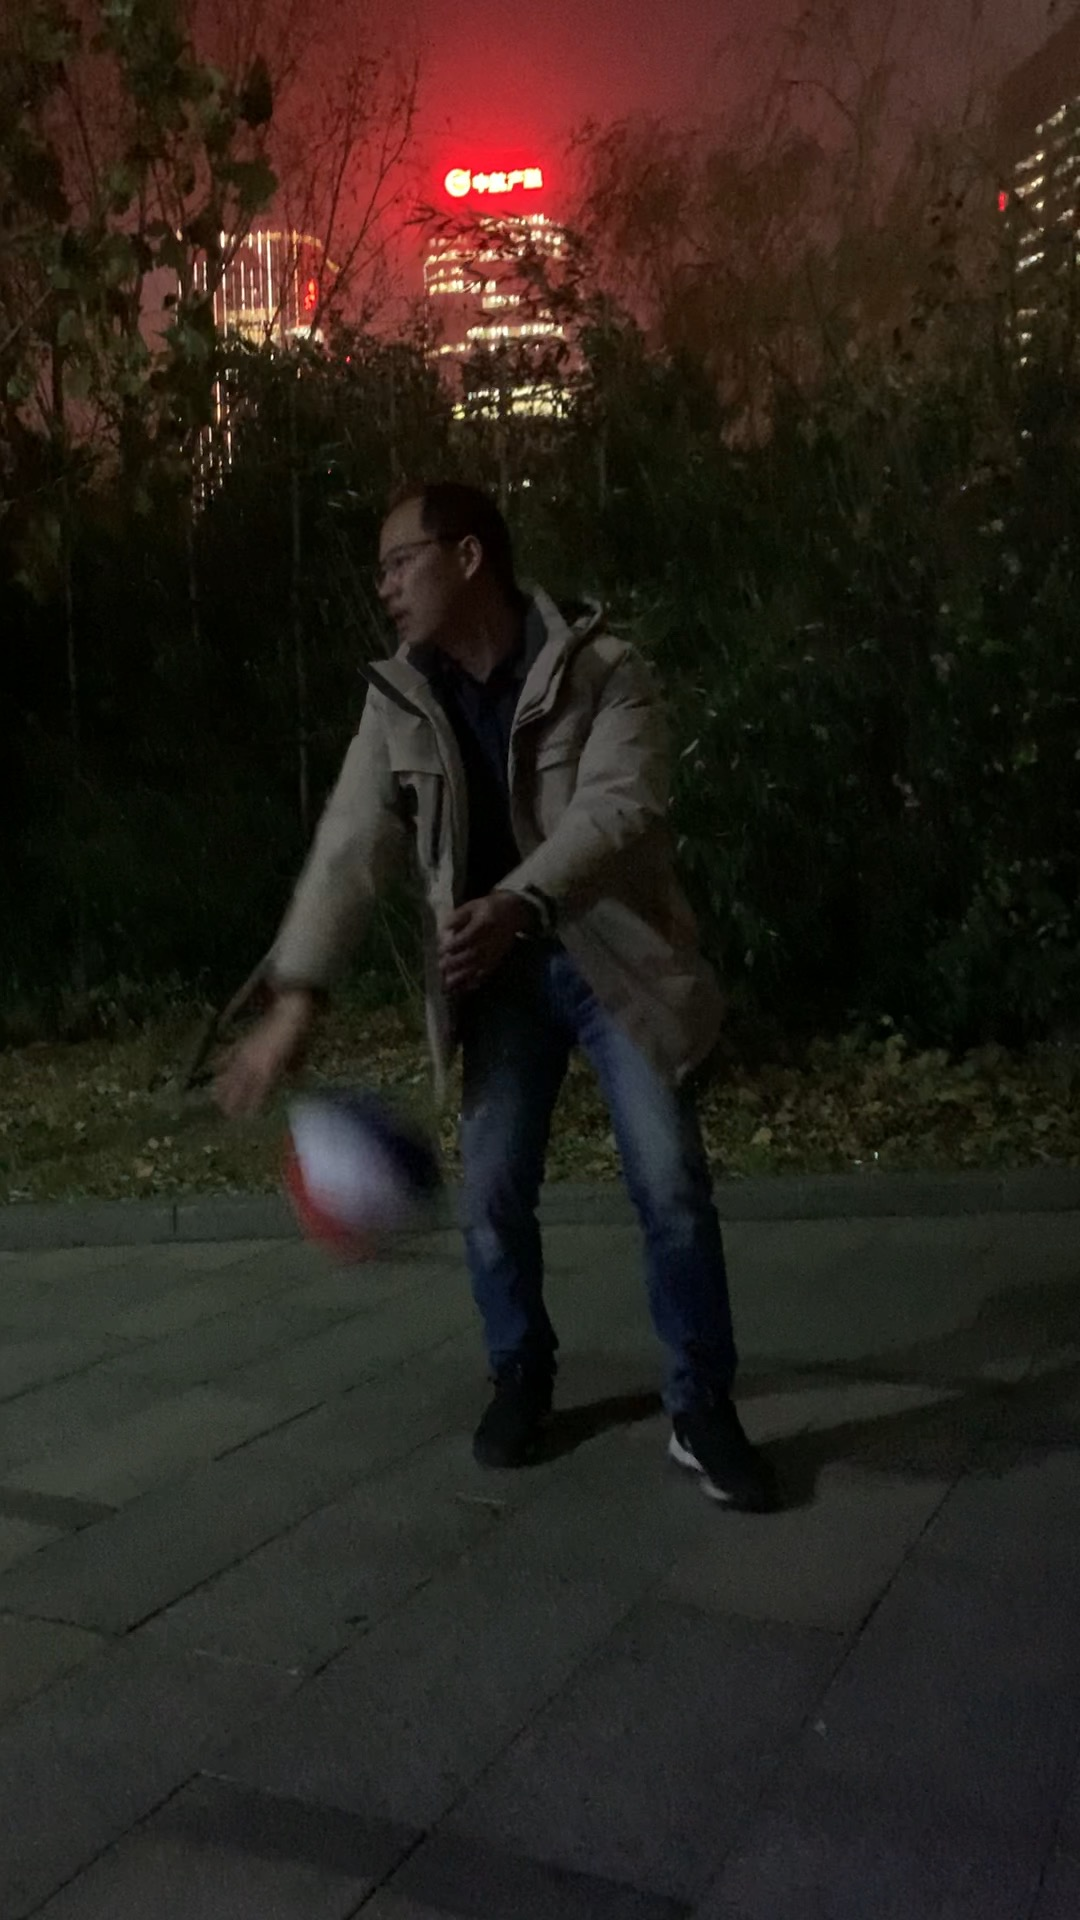ball: (287, 1102, 446, 1253)
